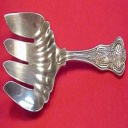Fork: (2, 9, 128, 117)
